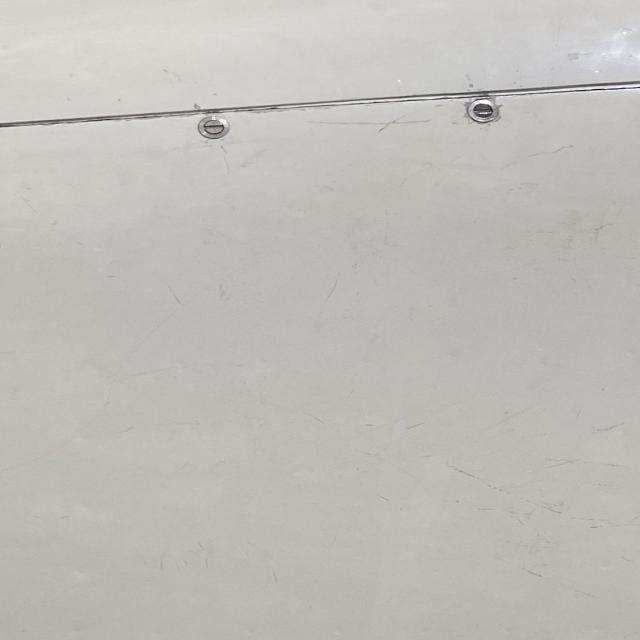Paint-off: (552, 44, 610, 70), (504, 173, 545, 194)
Scratch: (303, 108, 445, 138)
